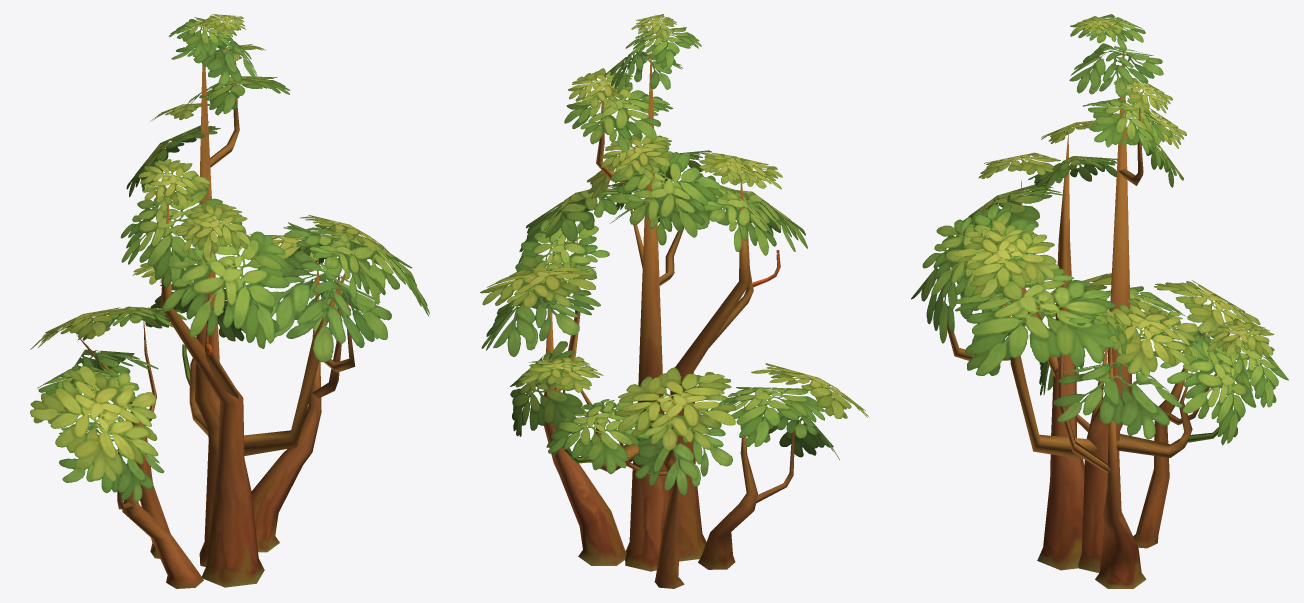
File: TYJ_LXshuganA1.fbx
3 views of the same model, side by side, from view 1: azimuth 30°, elevation 25°; view 2: azimuth 150°, elevation 25°; view 3: azimuth 270°, elevation 25° (orthographic).
Visible parts, largest first — view 1: TYJ_LXshuganA1; view 2: TYJ_LXshuganA1; view 3: TYJ_LXshuganA1.
Part boxes in pixels (x1,y1,x2,y2): TYJ_LXshuganA1: [30, 14, 429, 588]; TYJ_LXshuganA1: [480, 14, 868, 588]; TYJ_LXshuganA1: [911, 14, 1288, 588].
Bounding box in the file's own units: 607 × 885 × 567.
